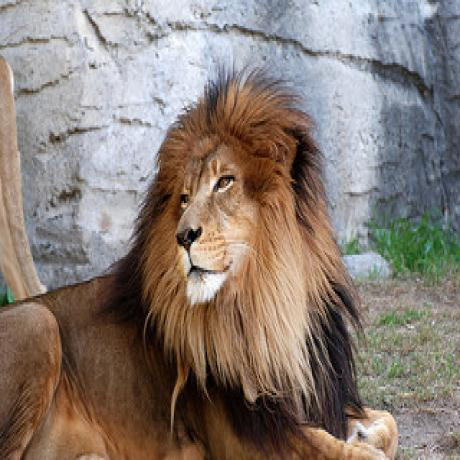Lion: (0, 72, 401, 460)
